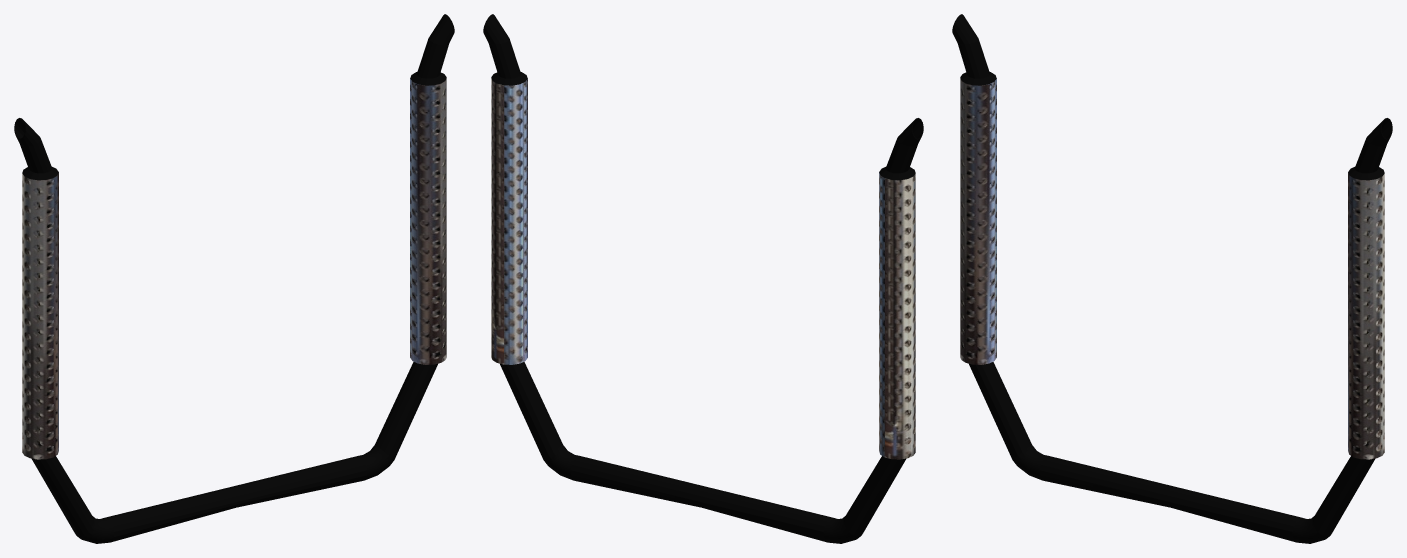
3 renders of one model, left to right at view 1: azimuth 30°, elevation 25°; view 2: azimuth 150°, elevation 25°; view 3: azimuth 330°, elevation 25°, orthographic.
Parts seen in each view (by area): view 1: polySurface3; view 2: polySurface3; view 3: polySurface3.
Part boxes in pixels (x1,y1,x2,y2): polySurface3: (14,14,454,543); polySurface3: (483,14,923,543); polySurface3: (952,14,1392,543).
Bounding box in the file's own units: 0.0694 × 0.068 × 0.00498.
